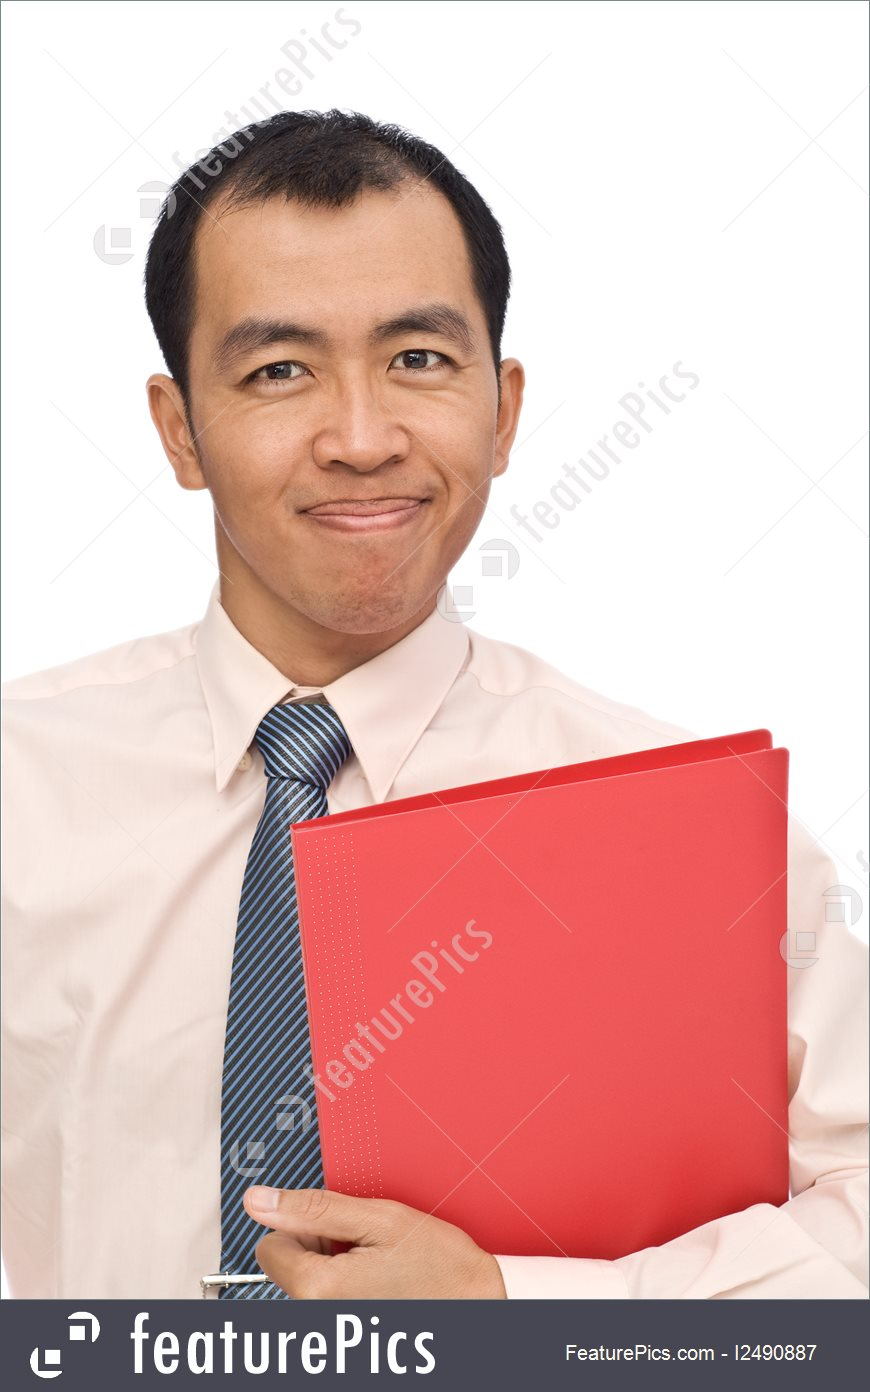red folder: (281, 718, 839, 1290)
